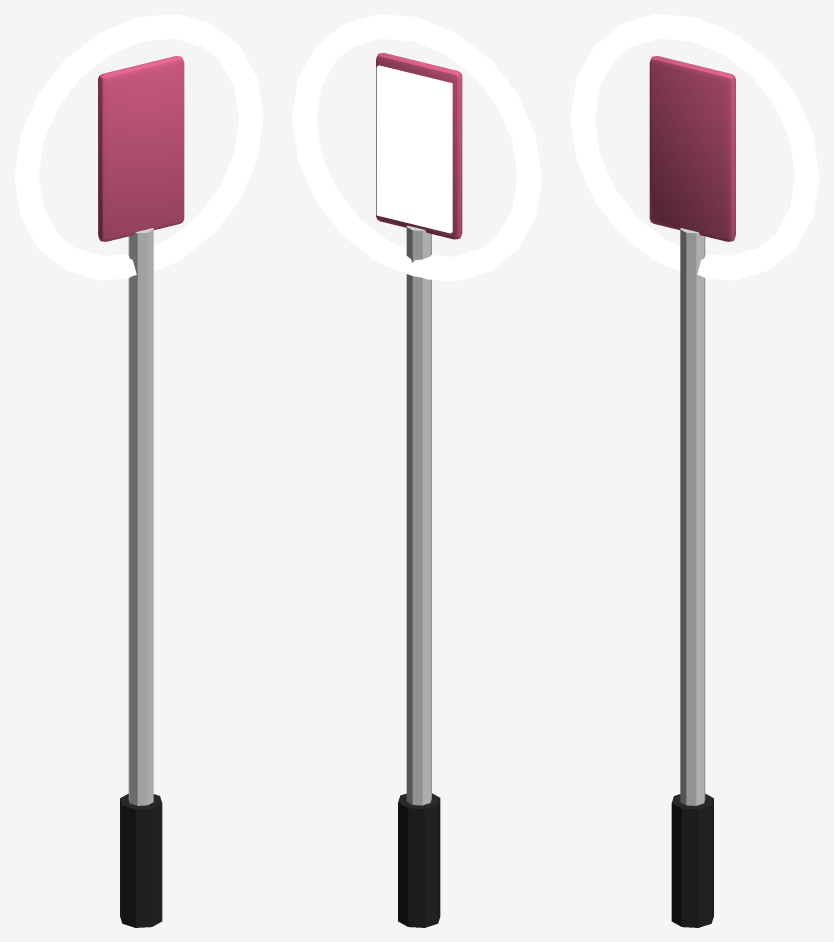
Rendered from hustle_selfie.glb.
The picture shows the model from 3 angles, left to right: view 1: azimuth 30°, elevation 25°; view 2: azimuth 150°, elevation 25°; view 3: azimuth 330°, elevation 25°; orthographic projection.
Parts seen in each view (by area): view 1: Selfie_body; view 2: Selfie_body; view 3: Selfie_body.
Part boxes in pixels (<box>): Selfie_body: <box>14,14,263,927</box>; Selfie_body: <box>292,14,541,927</box>; Selfie_body: <box>570,14,819,927</box>.
Bounding box in the file's own units: 0.264 × 0.912 × 0.04.
